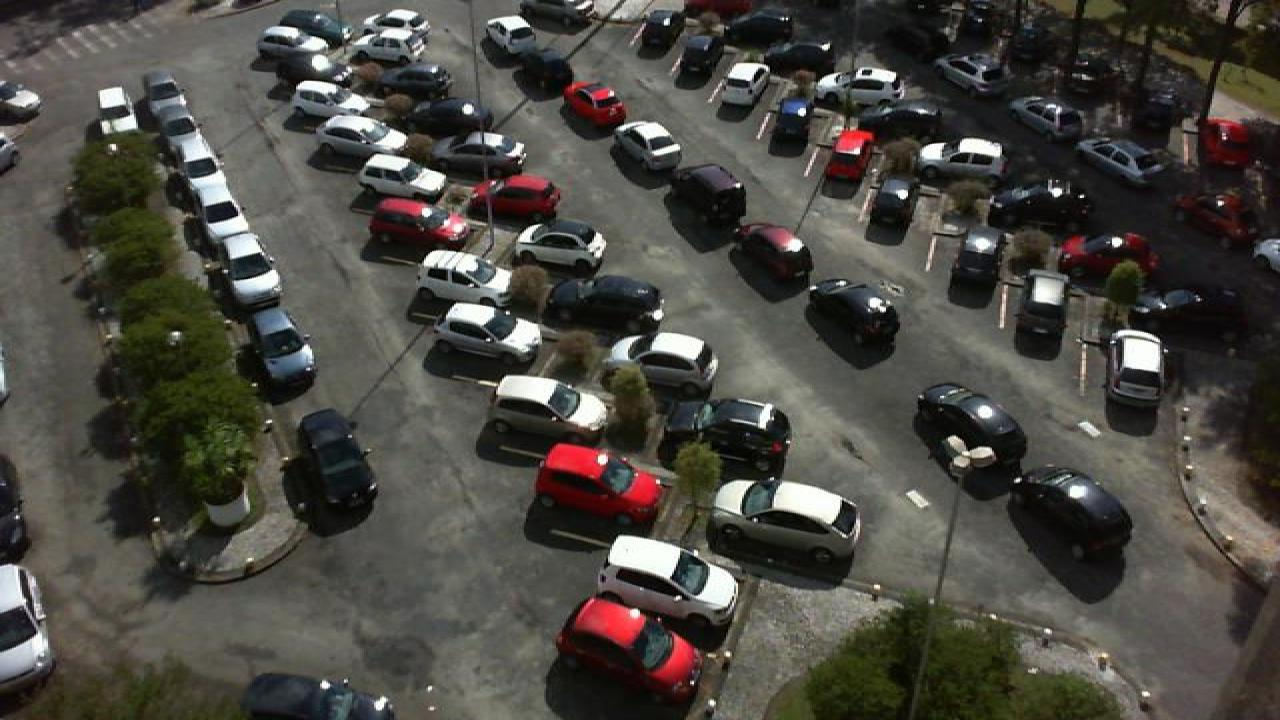Car: (552, 594, 708, 702), (592, 534, 742, 630), (706, 477, 864, 564), (1012, 465, 1134, 560), (532, 441, 664, 525), (284, 407, 380, 522), (658, 394, 792, 474), (912, 382, 1028, 468), (486, 373, 610, 444), (610, 331, 720, 403), (240, 671, 398, 720), (0, 561, 58, 691), (548, 274, 666, 330), (438, 302, 544, 364), (242, 303, 320, 387), (808, 278, 904, 343), (412, 248, 510, 310), (1136, 284, 1248, 338), (510, 217, 610, 276), (988, 180, 1096, 233), (1172, 189, 1262, 250), (1058, 231, 1162, 282), (366, 196, 472, 246), (728, 222, 812, 284), (670, 162, 750, 225), (210, 239, 284, 307), (1106, 328, 1172, 402), (312, 112, 410, 160), (352, 154, 448, 200), (430, 130, 530, 174), (468, 173, 562, 219), (1076, 138, 1168, 185), (916, 137, 1006, 181), (1008, 94, 1092, 140), (948, 226, 1002, 296), (612, 120, 684, 171), (288, 80, 370, 124), (1016, 272, 1072, 336), (820, 66, 908, 106), (930, 54, 1014, 94), (856, 104, 946, 140), (820, 128, 876, 184), (562, 81, 628, 127), (266, 47, 350, 83), (190, 202, 248, 254), (342, 31, 428, 66), (374, 63, 456, 99), (622, 50, 678, 102), (516, 50, 576, 96), (1198, 116, 1252, 166), (720, 62, 772, 112), (676, 25, 728, 74), (726, 8, 796, 44), (766, 98, 814, 150), (256, 26, 332, 58), (172, 168, 226, 212), (480, 14, 538, 54), (766, 39, 836, 72), (96, 86, 144, 130), (362, 8, 432, 38), (282, 8, 350, 38), (160, 132, 206, 176), (140, 71, 190, 111), (516, 0, 594, 21), (164, 102, 206, 138)
